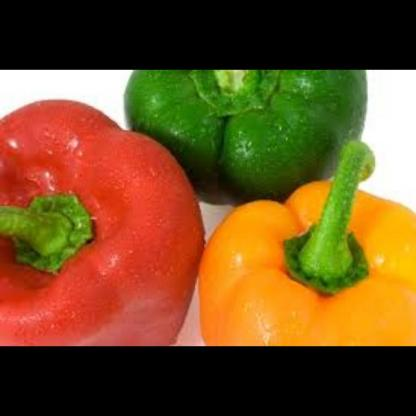bell pepper: (0, 94, 203, 345), (198, 146, 415, 345), (122, 69, 368, 205)
